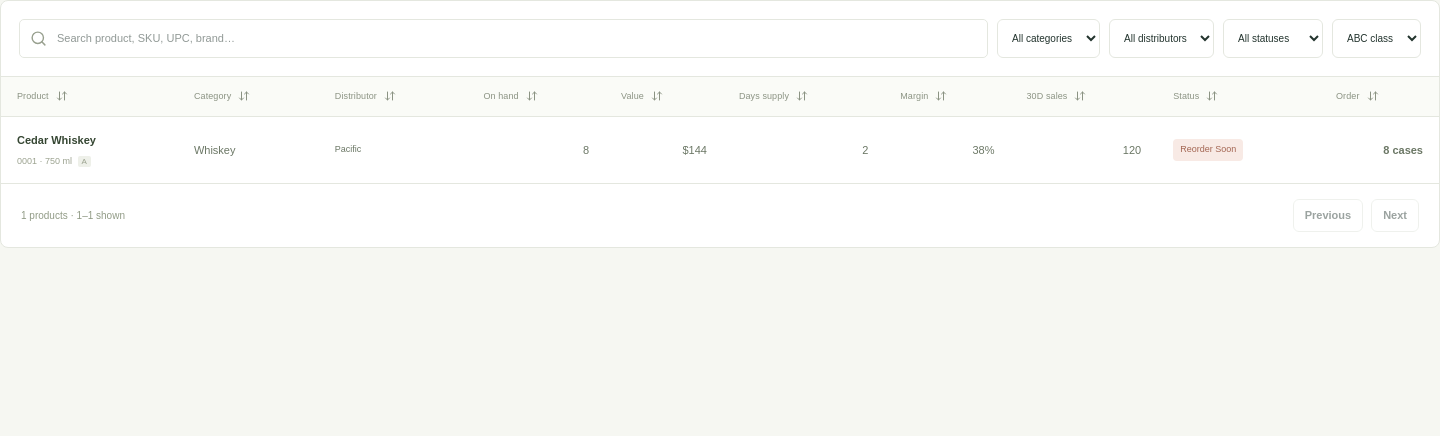
inventory exploration › searches UPC and reports no results
Type "001234" into the field named "Search inventory" at (517, 38), box 47,20 -> 987,56
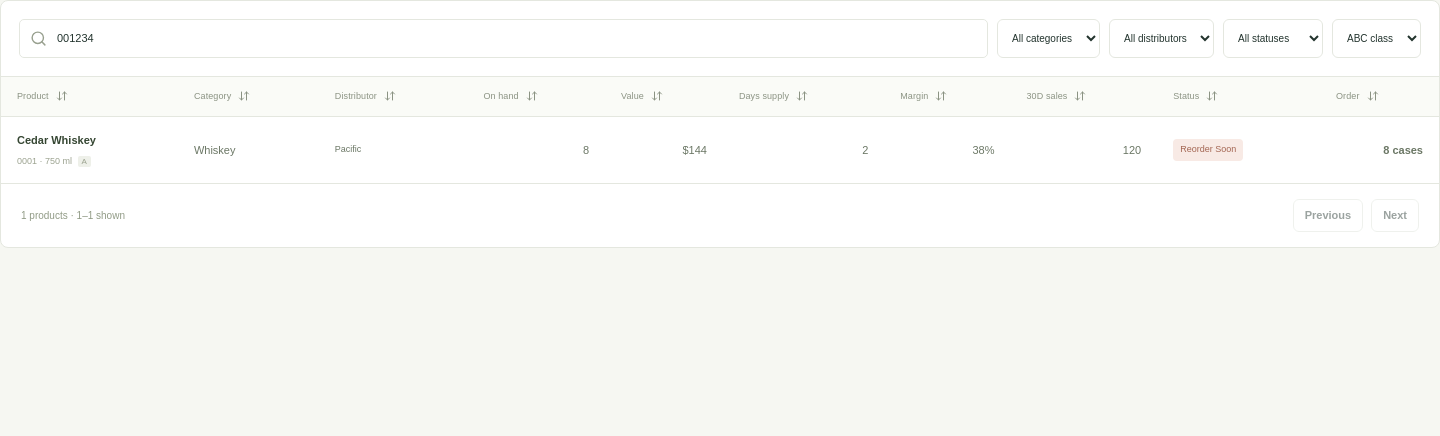
Expected: the link "Cedar Whiskey" is shown, 17,134 -> 96,146
Replace the text in the field named "Search inventory" with "unknown" at (517, 38), box 47,20 -> 987,56
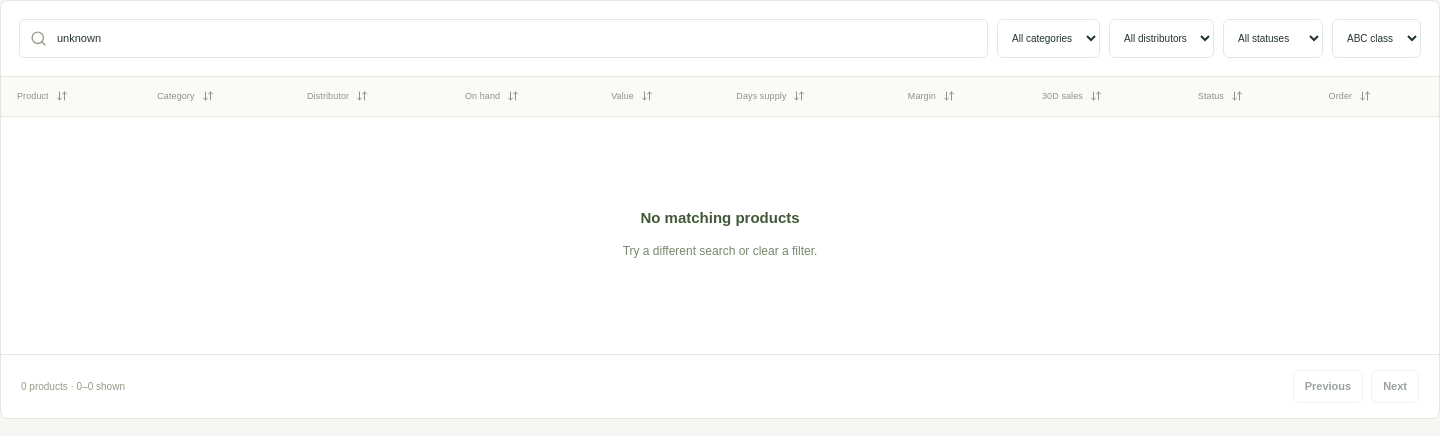
Result: the heading "No matching products" is shown at 640,209 -> 800,226
